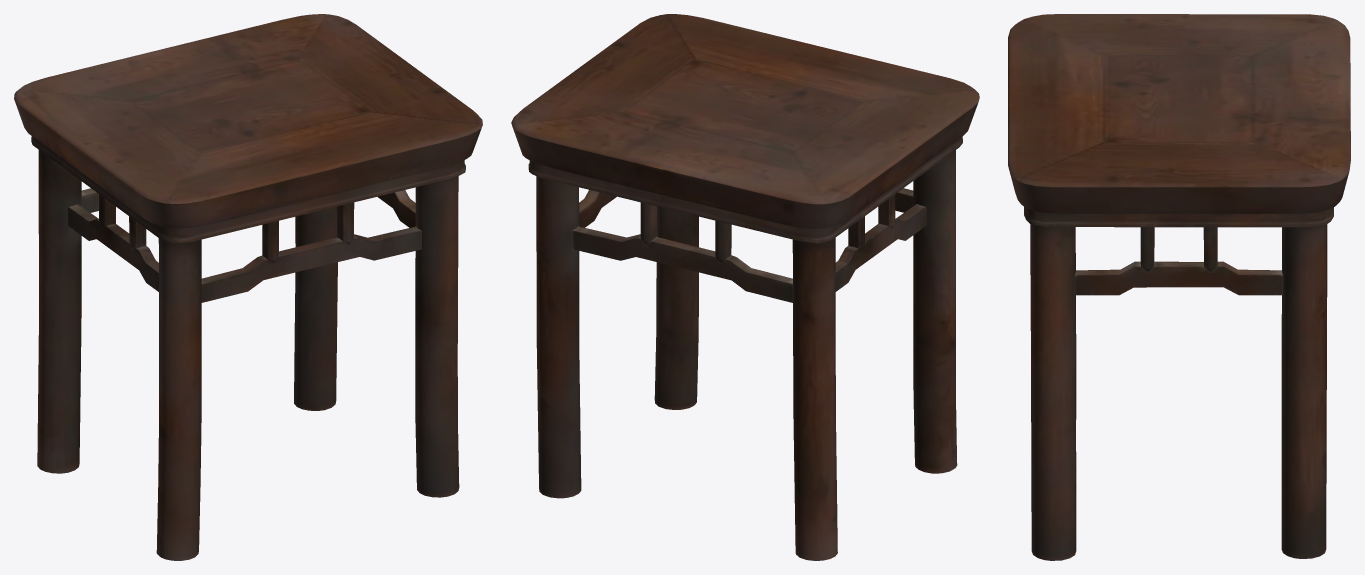
The model's file is chinese_stool.glb.
3 views of the same model, side by side, from view 1: azimuth 30°, elevation 25°; view 2: azimuth 150°, elevation 25°; view 3: azimuth 270°, elevation 25° (orthographic). The views are drawn at different scales.
Visible parts, largest first — view 1: chinese_stool; view 2: chinese_stool; view 3: chinese_stool.
Part boxes in pixels (left/top/right/bottom): chinese_stool: left=14, top=14, right=482, bottom=560; chinese_stool: left=511, top=14, right=979, bottom=560; chinese_stool: left=1008, top=14, right=1350, bottom=560.
Bounding box in the file's own units: 0.599 × 0.6306 × 0.5064.
1 material, 1 textured.
